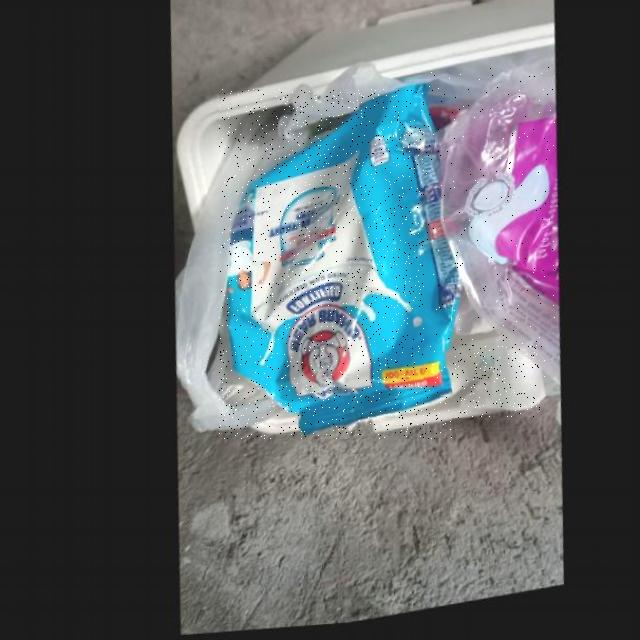paper: (453, 344, 540, 417)
plastic: (425, 65, 555, 395)
wrapper: (219, 89, 452, 439)
